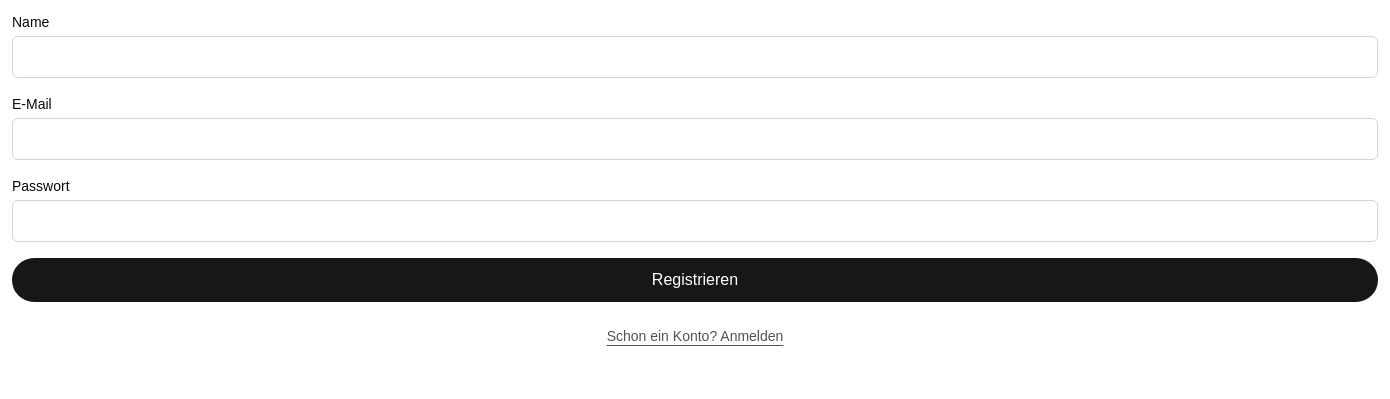
F004 RegisterForm › F004/AC-6 zeigt bei Serverfehler (500) die Generik-Meldung, Button wieder aktiv, Werte erhalten
The image size is (1390, 399).
Step 1. Type "Max Mustermann" into the field labelled "Name" → point(695, 57), box [12,36,1378,78]
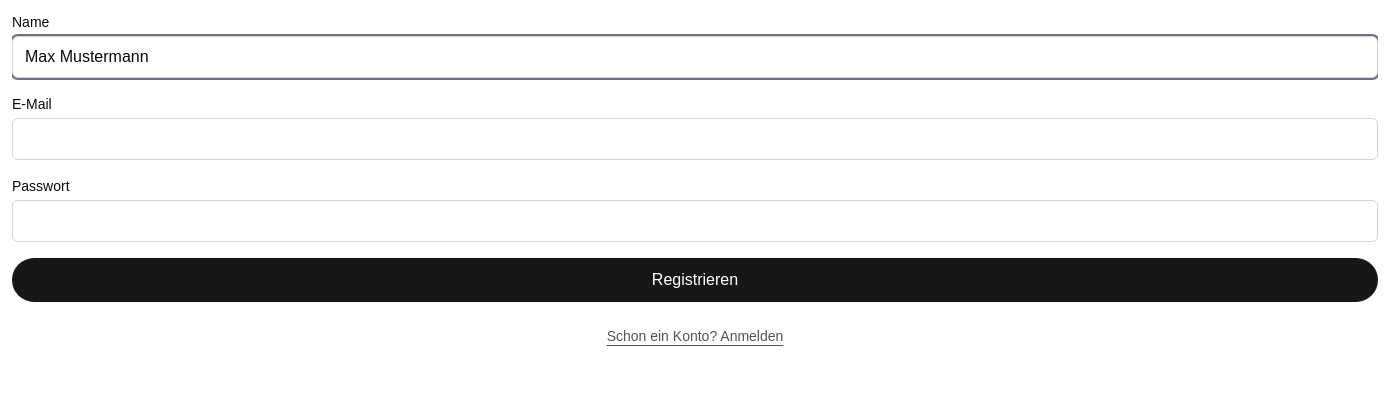
Step 2. Type "neu@example.com" into the field labelled "E-Mail" → point(695, 139), box [12,118,1378,160]
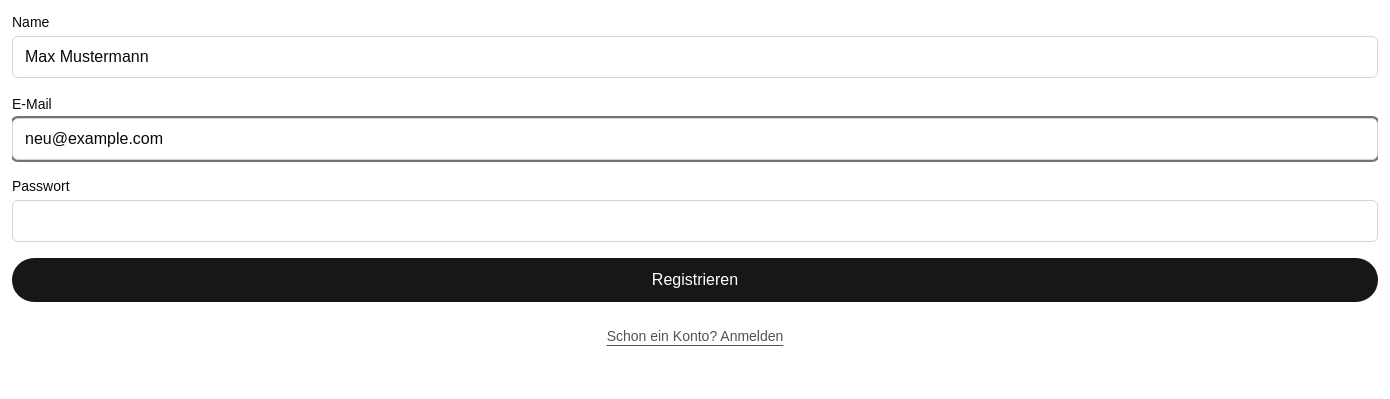
Step 3. Type "geheim123" into the password field labelled "Passwort" → point(695, 221), box [12,200,1378,242]
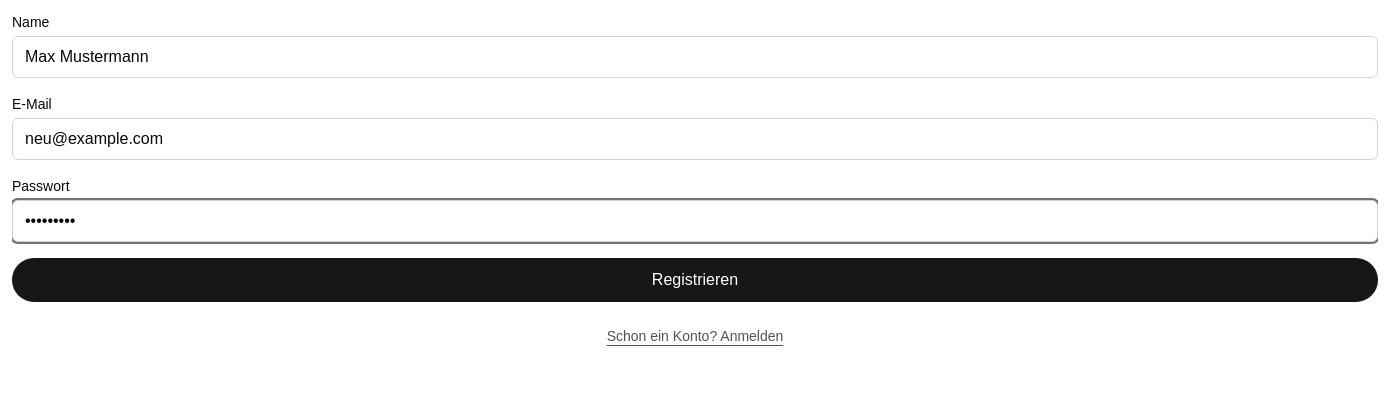
Step 4. Click the button "Registrieren" → point(695, 280), box [12,258,1378,302]
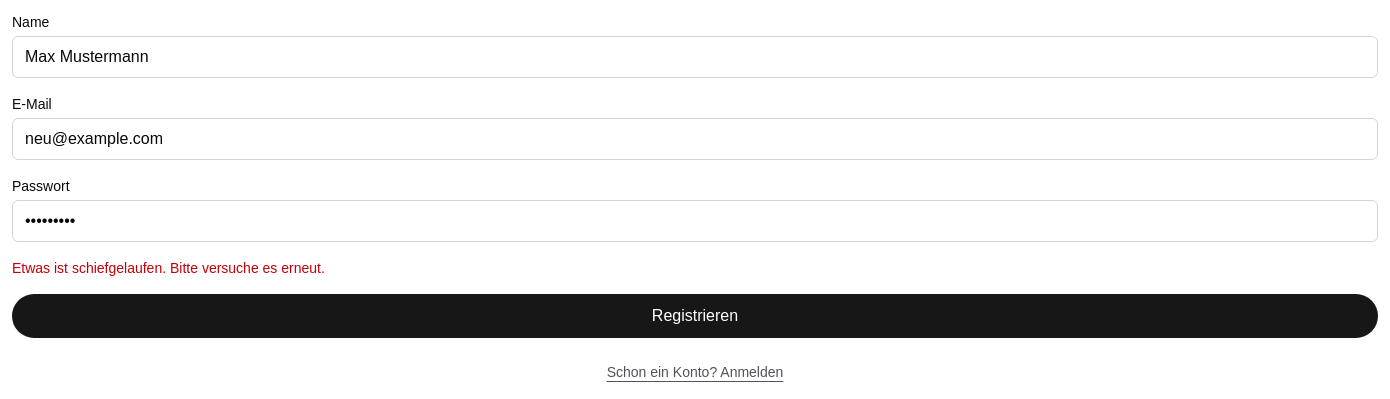
Check: the button "Registrieren" is enabled, box [12,294,1378,338]
Check: the message reads "Etwas ist schiefgelaufen. Bitte versuche es erneut.", box [12,260,325,276]
